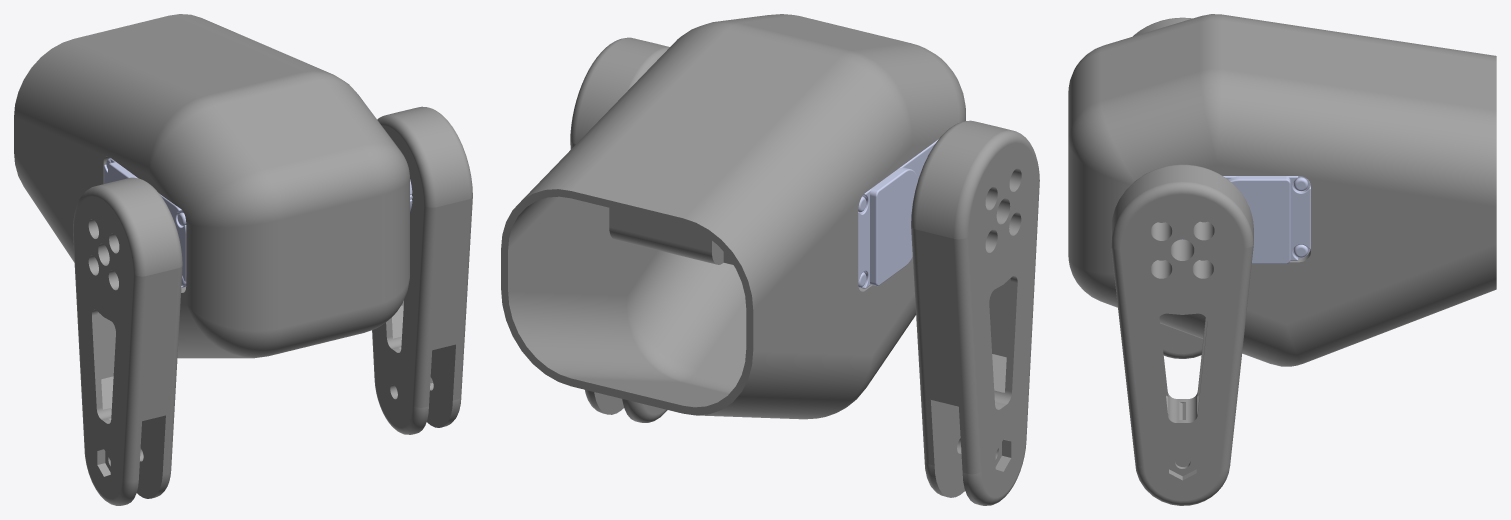
Rendered from dog-asm.fbx.
The picture shows the model from 3 angles, left to right: view 1: azimuth 30°, elevation 25°; view 2: azimuth 150°, elevation 25°; view 3: azimuth 270°, elevation 25°; orthographic projection. The views are drawn at different scales.
Visible parts, largest first — view 1: Body1 (×4), Body2; view 2: Body1 (×4), Body2; view 3: Body1 (×4), Body2.
Part boxes in pixels (box(x1,y1,x2,y2)): Body1 (×4): box(73, 14, 472, 505); Body2: box(14, 27, 327, 358); Body1 (×4): box(501, 14, 1039, 505); Body2: box(627, 29, 965, 419); Body1 (×4): box(1068, 17, 1496, 505); Body2: box(1068, 14, 1496, 114).
Bounding box in the file's own units: 85 × 87.81 × 90.
